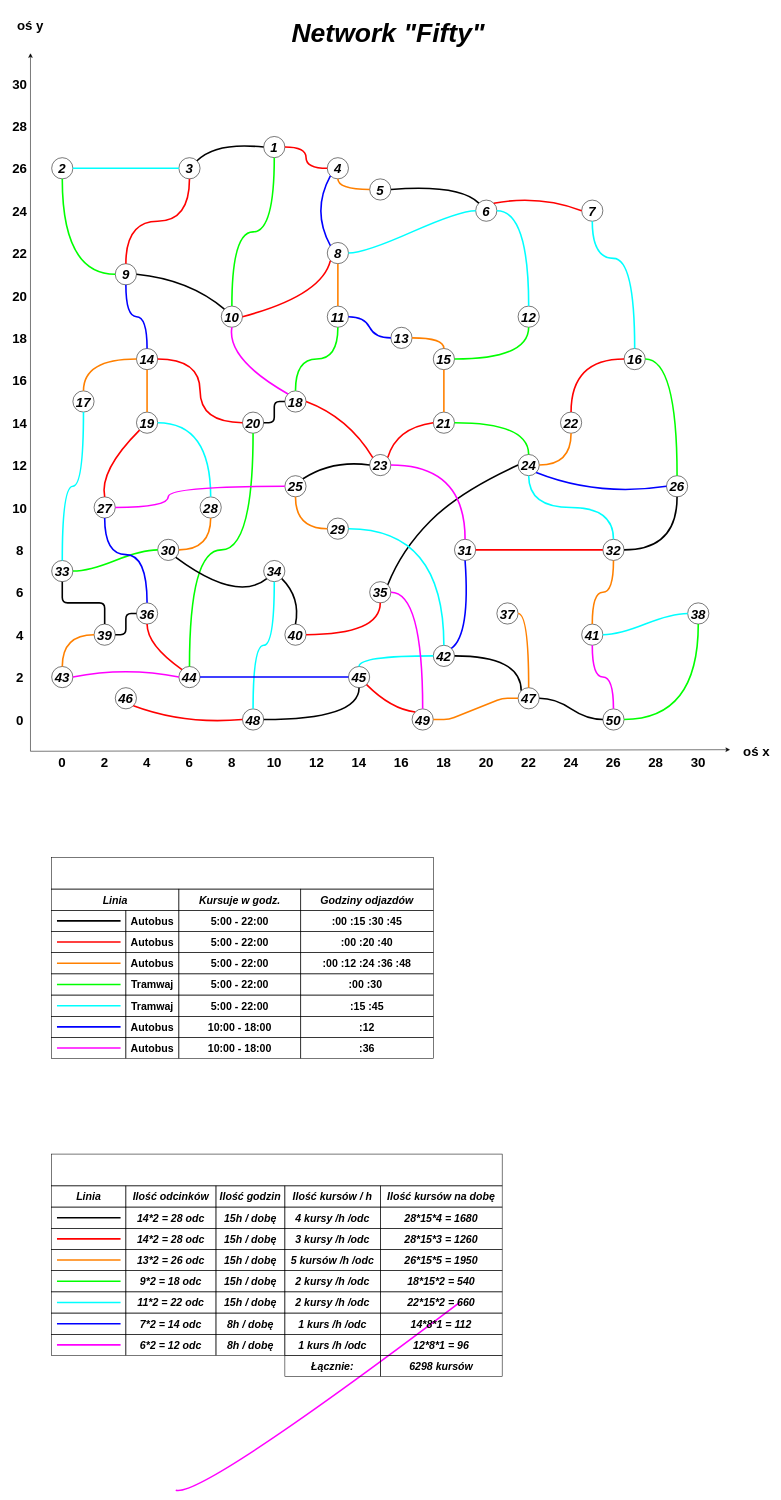
Image size: 781x1500. Some labels were removed from this diagram. The shapes that lost their labels are listed below. From the top down, each one's box as (x1, y1, x2, y2) in pixels, then its label:
(51, 857, 433, 889): Rozkład jazdy Network "Fifty"
(51, 1154, 502, 1186): Wielkość problemu Network "Fifty"
